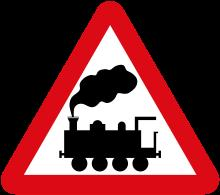Barrier Ahead: (13, 12, 212, 183)
